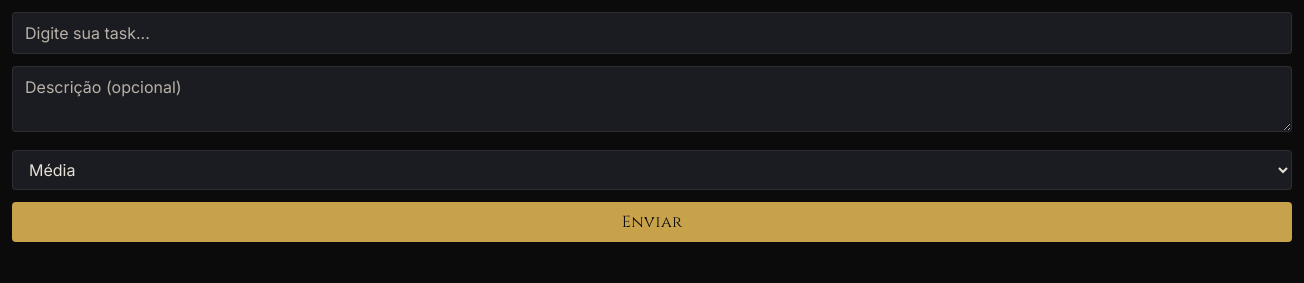
Test: TaskForm › mostra erro quando o título está vazio no submit
Click the button "Enviar": (652, 222) [12,202,1292,242]
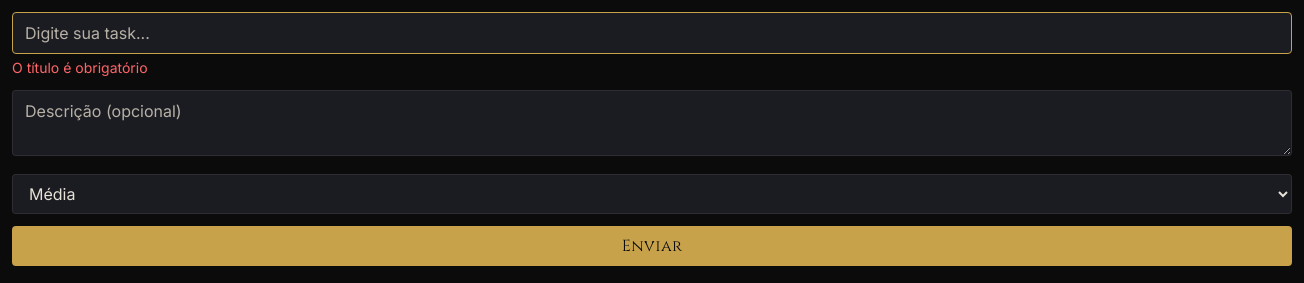
Expected: the text "O título é obrigatório" is shown, [12,59,148,76]
